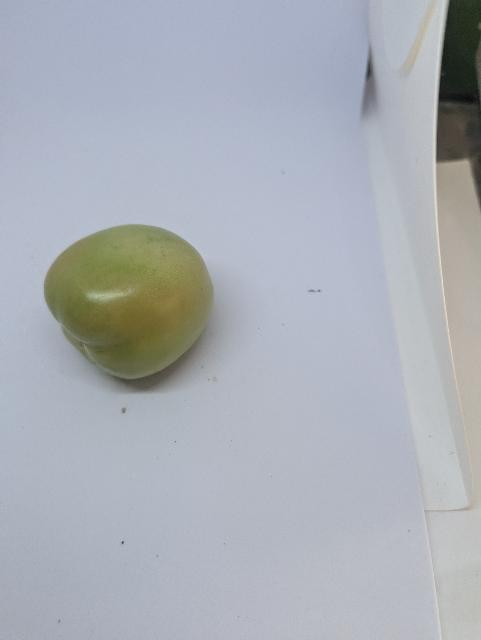green: (42, 221, 220, 382)
